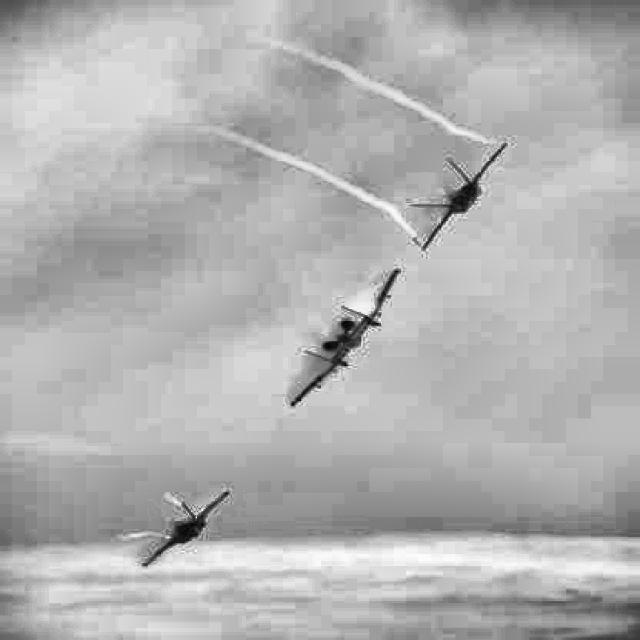A10: (290, 269, 401, 408)
F22: (412, 142, 508, 250)
F35: (142, 490, 229, 568)
